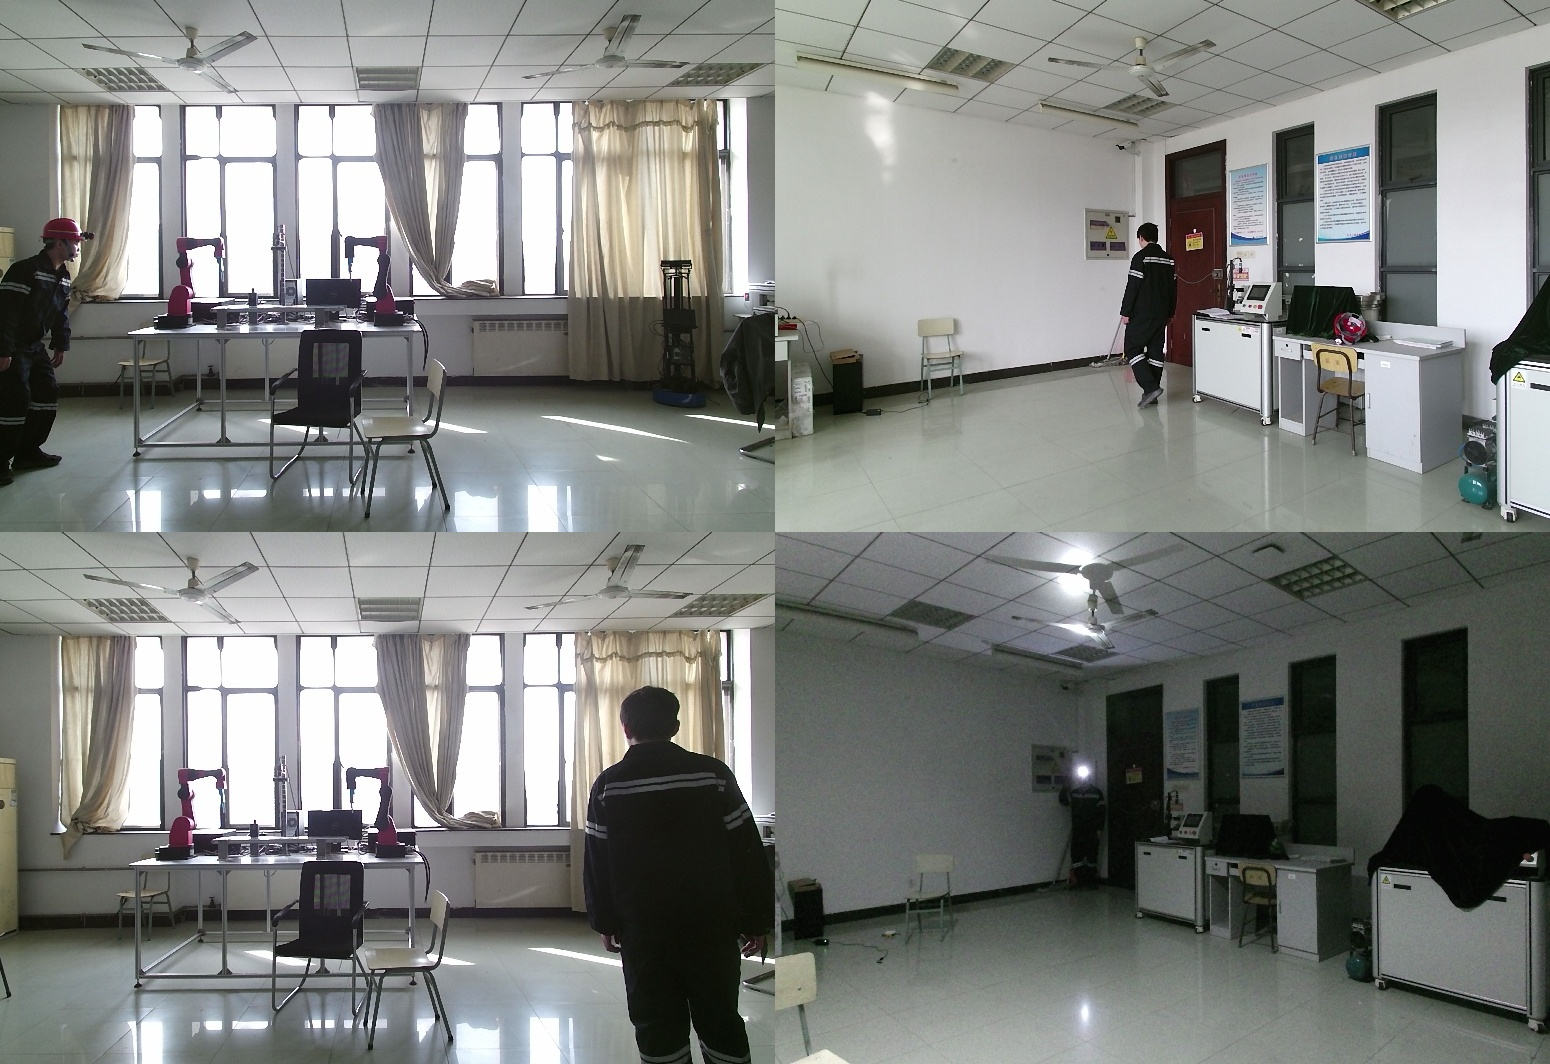person: (582, 686, 769, 1064), (1, 220, 99, 486), (1120, 224, 1183, 414), (1057, 768, 1105, 890)
